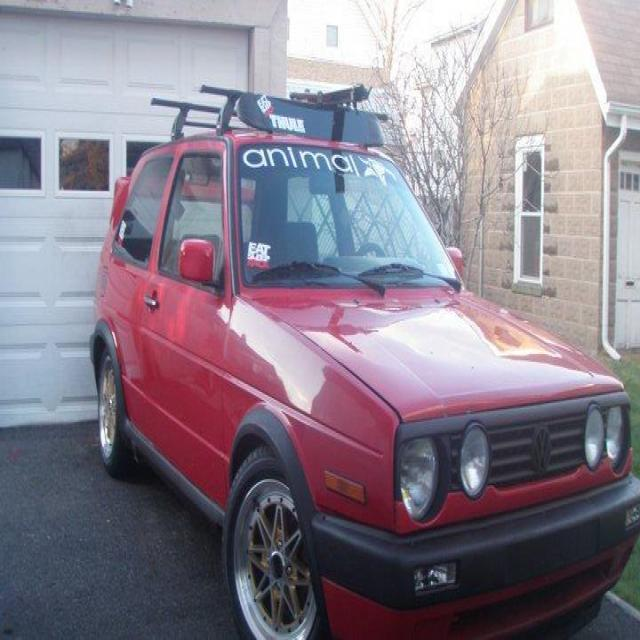car: (86, 76, 639, 637)
